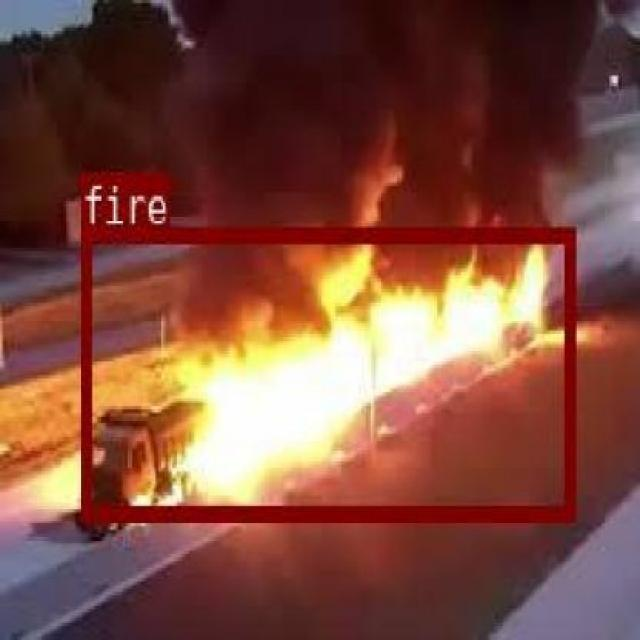fire: (80, 225, 573, 518)
